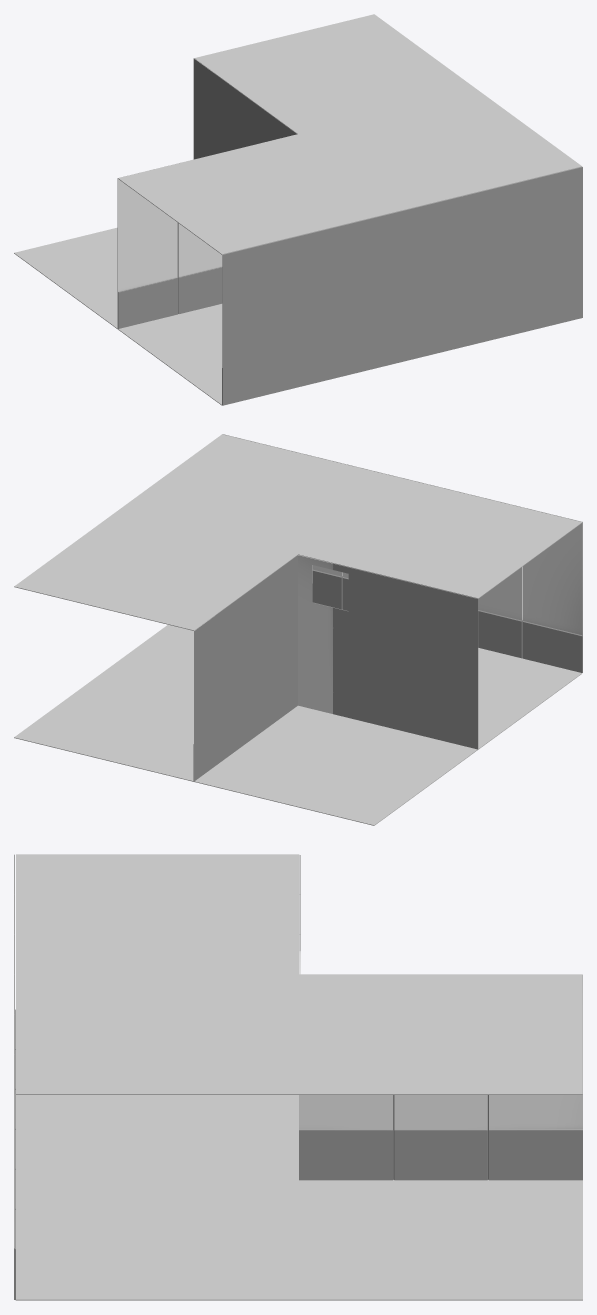
Rendered from small_room.fbx.
3 views of the same model, one above another, from view 1: azimuth 30°, elevation 25°; view 2: azimuth 150°, elevation 25°; view 3: azimuth 270°, elevation 25° (orthographic). The views are drawn at different scales.
Visible parts, largest first — view 1: small_room_top, small_room_wall_long, small_room_bottom, small_room_window_N, small_room_wall_short; view 2: small_room_top, small_room_bottom, small_room_window_N, small_room_wall_short, small_room_wall_long; view 3: small_room_top, small_room_bottom, small_room_wall_short, small_room_wall_long.
Boxes of the visible parts, box(x1,y1,x2,y2) form: small_room_top: box(118, 14, 582, 254); small_room_wall_long: box(222, 167, 582, 405); small_room_bottom: box(14, 227, 222, 405); small_room_window_N: box(117, 135, 292, 328); small_room_wall_short: box(193, 58, 297, 159); small_room_top: box(14, 434, 582, 630); small_room_bottom: box(14, 624, 582, 825); small_room_window_N: box(298, 555, 478, 749); small_room_wall_short: box(193, 555, 297, 781); small_room_wall_long: box(222, 434, 582, 672); small_room_top: box(16, 854, 582, 1094); small_room_bottom: box(15, 1095, 582, 1300); small_room_wall_short: box(299, 974, 582, 1180); small_room_wall_long: box(14, 854, 15, 1299).
Size of the model in its own units: 1500 by 602 by 1505.
